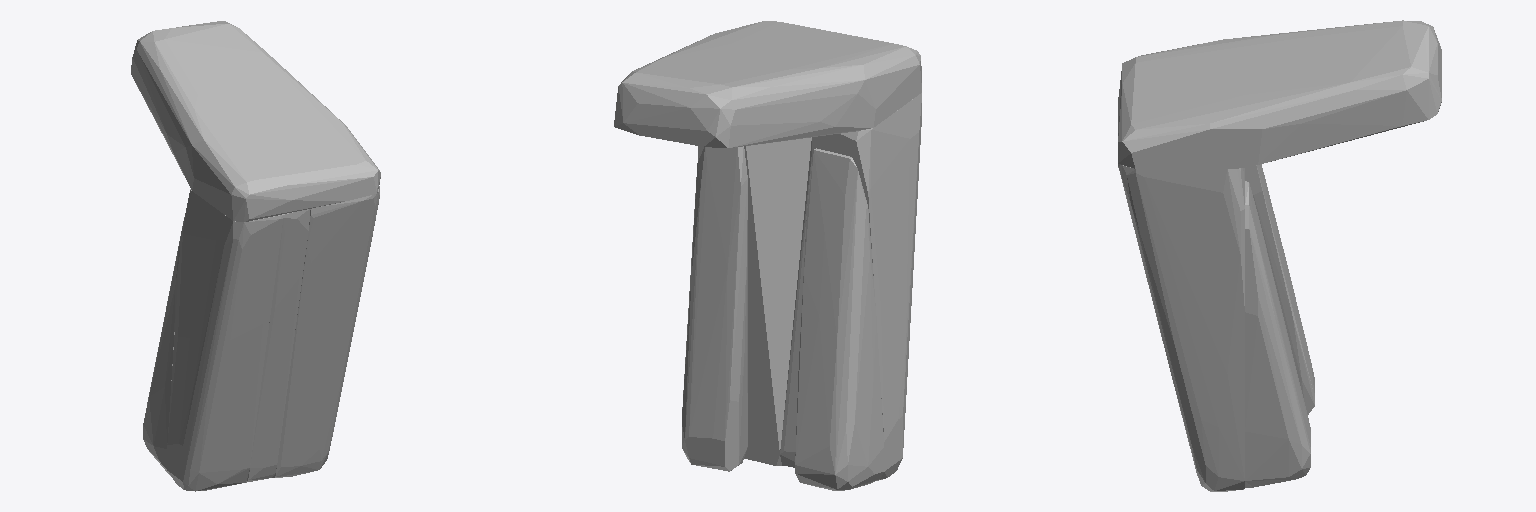
robot.urdf — root:
<robot name="root">
  <link name="link_thingiverse~part_4360552_convex_piece_0">
    <inertial>
      <origin rpy="0 0 0" xyz="0 0 0"/>
      <mass value="8.67E-02"/>
      <inertia ixx="1.39E-04" ixy="3.04E-06" ixz="5.35E-06" iyy="1.09E-04" iyz="3.48E-05" izz="5.05E-05"/>
    </inertial>
    <visual>
      <origin rpy="0 0 0" xyz="0 0 0"/>
      <geometry>
        <mesh filename="thingiverse~part_4360552_convex_piece_0.obj" scale="1.0000E+00 1.0000E+00 1.0000E+00"/>
      </geometry>
      <material name="">
        <color rgba="7.50E-01 7.50E-01 7.50E-01 1"/>
      </material>
    </visual>
    <collision>
      <origin rpy="0 0 0" xyz="0 0 0"/>
      <geometry>
        <mesh filename="thingiverse~part_4360552_convex_piece_0.obj" scale="1.0000E+00 1.0000E+00 1.0000E+00"/>
      </geometry>
    </collision>
  </link>
  <link name="link_thingiverse~part_4360552_convex_piece_1">
    <inertial>
      <origin rpy="0 0 0" xyz="0 0 0"/>
      <mass value="2.09E-02"/>
      <inertia ixx="2.49E-05" ixy="-3.06E-06" ixz="1.03E-05" iyy="2.92E-05" iyz="-5.81E-06" izz="8.03E-06"/>
    </inertial>
    <visual>
      <origin rpy="0 0 0" xyz="0 0 0"/>
      <geometry>
        <mesh filename="thingiverse~part_4360552_convex_piece_1.obj" scale="1.0000E+00 1.0000E+00 1.0000E+00"/>
      </geometry>
      <material name="">
        <color rgba="7.50E-01 7.50E-01 7.50E-01 1"/>
      </material>
    </visual>
    <collision>
      <origin rpy="0 0 0" xyz="0 0 0"/>
      <geometry>
        <mesh filename="thingiverse~part_4360552_convex_piece_1.obj" scale="1.0000E+00 1.0000E+00 1.0000E+00"/>
      </geometry>
    </collision>
  </link>
  <joint name="link_thingiverse~part_4360552_convex_piece_1_joint" type="fixed">
    <origin rpy="0 0 0" xyz="0 0 0"/>
    <parent link="link_thingiverse~part_4360552_convex_piece_0"/>
    <child link="link_thingiverse~part_4360552_convex_piece_1"/>
  </joint>
  <link name="link_thingiverse~part_4360552_convex_piece_2">
    <inertial>
      <origin rpy="0 0 0" xyz="0 0 0"/>
      <mass value="7.62E-02"/>
      <inertia ixx="5.44E-05" ixy="-6.55E-06" ixz="-6.64E-06" iyy="5.84E-05" iyz="8.15E-07" izz="1.99E-05"/>
    </inertial>
    <visual>
      <origin rpy="0 0 0" xyz="0 0 0"/>
      <geometry>
        <mesh filename="thingiverse~part_4360552_convex_piece_2.obj" scale="1.0000E+00 1.0000E+00 1.0000E+00"/>
      </geometry>
      <material name="">
        <color rgba="7.50E-01 7.50E-01 7.50E-01 1"/>
      </material>
    </visual>
    <collision>
      <origin rpy="0 0 0" xyz="0 0 0"/>
      <geometry>
        <mesh filename="thingiverse~part_4360552_convex_piece_2.obj" scale="1.0000E+00 1.0000E+00 1.0000E+00"/>
      </geometry>
    </collision>
  </link>
  <joint name="link_thingiverse~part_4360552_convex_piece_2_joint" type="fixed">
    <origin rpy="0 0 0" xyz="0 0 0"/>
    <parent link="link_thingiverse~part_4360552_convex_piece_1"/>
    <child link="link_thingiverse~part_4360552_convex_piece_2"/>
  </joint>
  <link name="link_thingiverse~part_4360552_convex_piece_3">
    <inertial>
      <origin rpy="0 0 0" xyz="0 0 0"/>
      <mass value="1.91E-02"/>
      <inertia ixx="2.55E-05" ixy="2.05E-06" ixz="-7.43E-06" iyy="2.73E-05" iyz="-5.57E-06" izz="5.09E-06"/>
    </inertial>
    <visual>
      <origin rpy="0 0 0" xyz="0 0 0"/>
      <geometry>
        <mesh filename="thingiverse~part_4360552_convex_piece_3.obj" scale="1.0000E+00 1.0000E+00 1.0000E+00"/>
      </geometry>
      <material name="">
        <color rgba="7.50E-01 7.50E-01 7.50E-01 1"/>
      </material>
    </visual>
    <collision>
      <origin rpy="0 0 0" xyz="0 0 0"/>
      <geometry>
        <mesh filename="thingiverse~part_4360552_convex_piece_3.obj" scale="1.0000E+00 1.0000E+00 1.0000E+00"/>
      </geometry>
    </collision>
  </link>
  <joint name="link_thingiverse~part_4360552_convex_piece_3_joint" type="fixed">
    <origin rpy="0 0 0" xyz="0 0 0"/>
    <parent link="link_thingiverse~part_4360552_convex_piece_2"/>
    <child link="link_thingiverse~part_4360552_convex_piece_3"/>
  </joint>
  <link name="link_thingiverse~part_4360552_convex_piece_4">
    <inertial>
      <origin rpy="0 0 0" xyz="0 0 0"/>
      <mass value="6.01E-02"/>
      <inertia ixx="4.45E-05" ixy="5.53E-06" ixz="1.14E-05" iyy="5.32E-05" iyz="1.34E-06" izz="1.86E-05"/>
    </inertial>
    <visual>
      <origin rpy="0 0 0" xyz="0 0 0"/>
      <geometry>
        <mesh filename="thingiverse~part_4360552_convex_piece_4.obj" scale="1.0000E+00 1.0000E+00 1.0000E+00"/>
      </geometry>
      <material name="">
        <color rgba="7.50E-01 7.50E-01 7.50E-01 1"/>
      </material>
    </visual>
    <collision>
      <origin rpy="0 0 0" xyz="0 0 0"/>
      <geometry>
        <mesh filename="thingiverse~part_4360552_convex_piece_4.obj" scale="1.0000E+00 1.0000E+00 1.0000E+00"/>
      </geometry>
    </collision>
  </link>
  <joint name="link_thingiverse~part_4360552_convex_piece_4_joint" type="fixed">
    <origin rpy="0 0 0" xyz="0 0 0"/>
    <parent link="link_thingiverse~part_4360552_convex_piece_3"/>
    <child link="link_thingiverse~part_4360552_convex_piece_4"/>
  </joint>
  <link name="link_thingiverse~part_4360552_convex_piece_5">
    <inertial>
      <origin rpy="0 0 0" xyz="0 0 0"/>
      <mass value="2.14E-02"/>
      <inertia ixx="1.91E-05" ixy="6.24E-07" ixz="9.19E-07" iyy="1.66E-05" iyz="7.88E-07" izz="3.13E-06"/>
    </inertial>
    <visual>
      <origin rpy="0 0 0" xyz="0 0 0"/>
      <geometry>
        <mesh filename="thingiverse~part_4360552_convex_piece_5.obj" scale="1.0000E+00 1.0000E+00 1.0000E+00"/>
      </geometry>
      <material name="">
        <color rgba="7.50E-01 7.50E-01 7.50E-01 1"/>
      </material>
    </visual>
    <collision>
      <origin rpy="0 0 0" xyz="0 0 0"/>
      <geometry>
        <mesh filename="thingiverse~part_4360552_convex_piece_5.obj" scale="1.0000E+00 1.0000E+00 1.0000E+00"/>
      </geometry>
    </collision>
  </link>
  <joint name="link_thingiverse~part_4360552_convex_piece_5_joint" type="fixed">
    <origin rpy="0 0 0" xyz="0 0 0"/>
    <parent link="link_thingiverse~part_4360552_convex_piece_4"/>
    <child link="link_thingiverse~part_4360552_convex_piece_5"/>
  </joint>
</robot>

--- Render facts (derived) ---
Views: 3 orthographic renders of the robot side by side, from view 1: azimuth 30°, elevation 25°; view 2: azimuth 150°, elevation 25°; view 3: azimuth 270°, elevation 25°.
Model root with 6 links and 5 joints (5 fixed), rooted at link_thingiverse~part_4360552_convex_piece_0, posed every joint at zero.
Visible links, largest first — view 1: link_thingiverse~part_4360552_convex_piece_0, link_thingiverse~part_4360552_convex_piece_4, link_thingiverse~part_4360552_convex_piece_2, link_thingiverse~part_4360552_convex_piece_5, link_thingiverse~part_4360552_convex_piece_1; view 2: link_thingiverse~part_4360552_convex_piece_0, link_thingiverse~part_4360552_convex_piece_1, link_thingiverse~part_4360552_convex_piece_3, link_thingiverse~part_4360552_convex_piece_2, link_thingiverse~part_4360552_convex_piece_4, link_thingiverse~part_4360552_convex_piece_5; view 3: link_thingiverse~part_4360552_convex_piece_0, link_thingiverse~part_4360552_convex_piece_2, link_thingiverse~part_4360552_convex_piece_3, link_thingiverse~part_4360552_convex_piece_1.
Boxes of the visible links, x1=… form: link_thingiverse~part_4360552_convex_piece_0: x1=131, y1=21, x2=380, y2=221; link_thingiverse~part_4360552_convex_piece_4: x1=167, y1=189, x2=282, y2=491; link_thingiverse~part_4360552_convex_piece_2: x1=272, y1=186, x2=379, y2=477; link_thingiverse~part_4360552_convex_piece_5: x1=246, y1=209, x2=310, y2=482; link_thingiverse~part_4360552_convex_piece_1: x1=143, y1=217, x2=184, y2=475; link_thingiverse~part_4360552_convex_piece_0: x1=614, y1=21, x2=921, y2=147; link_thingiverse~part_4360552_convex_piece_1: x1=795, y1=148, x2=883, y2=490; link_thingiverse~part_4360552_convex_piece_3: x1=682, y1=146, x2=747, y2=471; link_thingiverse~part_4360552_convex_piece_2: x1=698, y1=137, x2=811, y2=465; link_thingiverse~part_4360552_convex_piece_4: x1=812, y1=93, x2=921, y2=480; link_thingiverse~part_4360552_convex_piece_5: x1=780, y1=141, x2=811, y2=467; link_thingiverse~part_4360552_convex_piece_0: x1=1118, y1=20, x2=1441, y2=168; link_thingiverse~part_4360552_convex_piece_2: x1=1118, y1=164, x2=1244, y2=491; link_thingiverse~part_4360552_convex_piece_3: x1=1245, y1=181, x2=1310, y2=487; link_thingiverse~part_4360552_convex_piece_1: x1=1245, y1=164, x2=1314, y2=414.
Bounding box of the posed robot: 0.047 × 0.0725 × 0.1058 m (x, y, z).
6 mesh visuals loaded from 6 distinct referenced files (6 OBJ).
